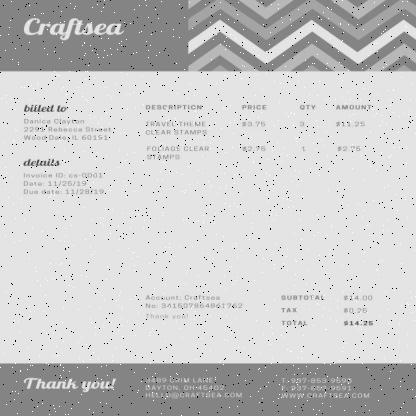Paragraph: (276, 291, 380, 330), (18, 101, 115, 142), (18, 156, 110, 198), (139, 292, 248, 323), (140, 374, 246, 402), (20, 15, 128, 42), (276, 374, 374, 400), (21, 374, 119, 396)
Table: (138, 101, 376, 164)
